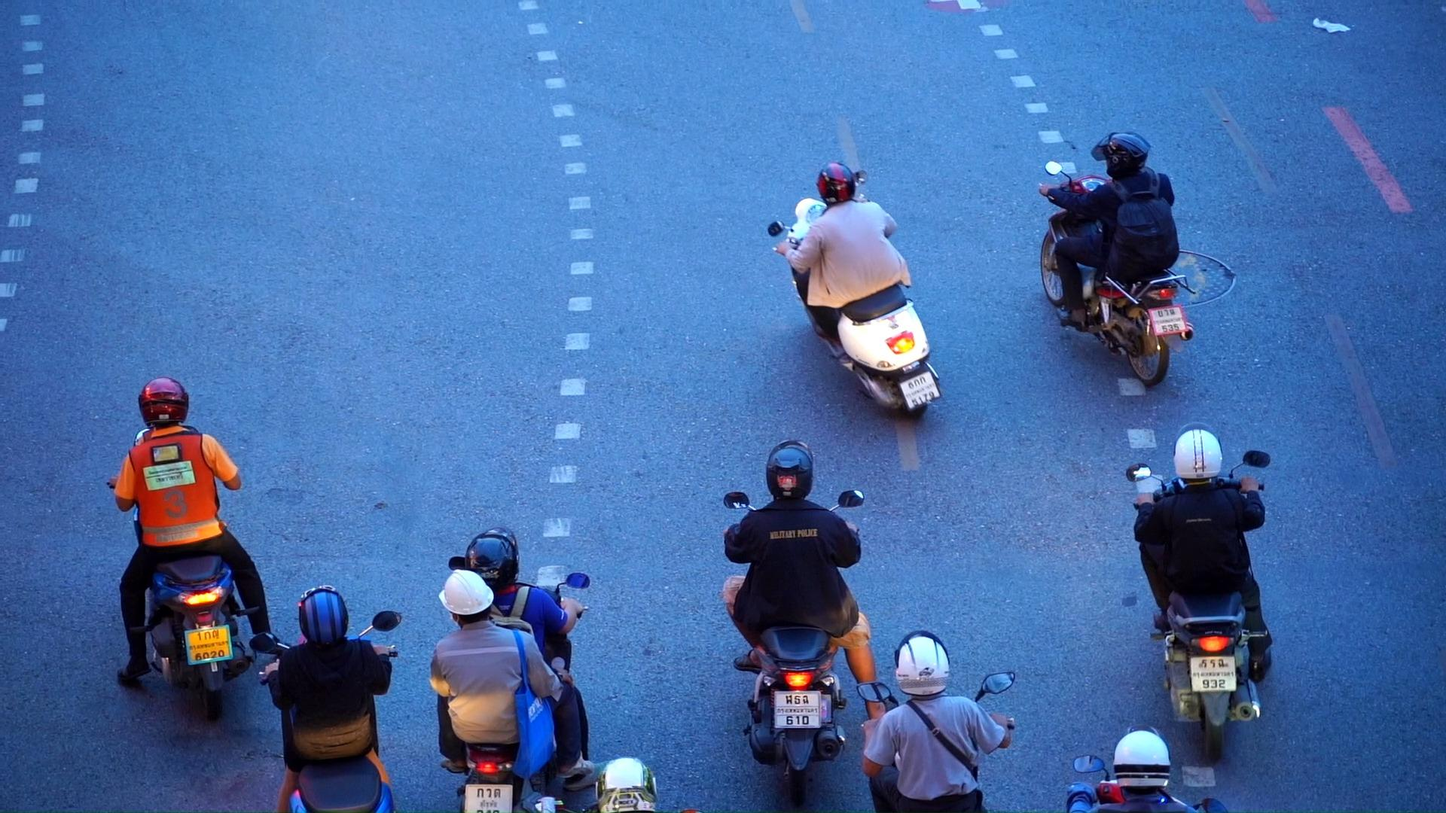driver: (105, 377, 294, 725), (719, 440, 886, 807), (1124, 422, 1271, 765), (430, 526, 596, 813), (768, 159, 941, 422), (1038, 132, 1198, 386), (249, 584, 404, 813), (854, 631, 1016, 813), (1066, 724, 1229, 813)
helmet: (1113, 724, 1171, 795), (894, 631, 950, 697), (465, 527, 519, 592), (438, 568, 494, 630), (596, 757, 658, 813), (299, 585, 348, 650), (1091, 132, 1151, 184), (766, 439, 813, 501), (1173, 421, 1223, 479), (138, 377, 188, 431), (816, 159, 856, 207)
